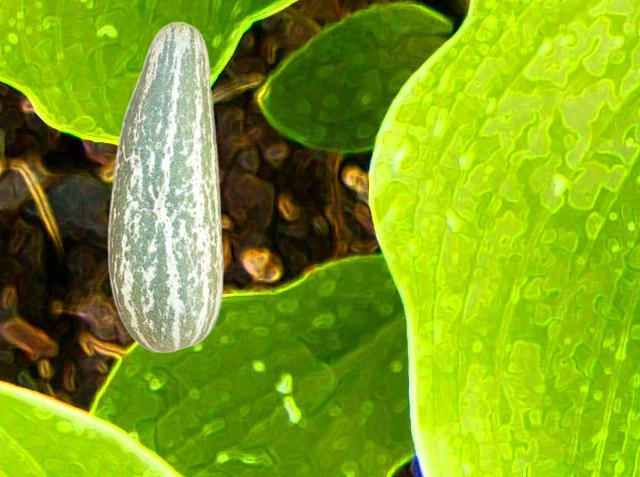cucumber: (107, 21, 223, 352)
